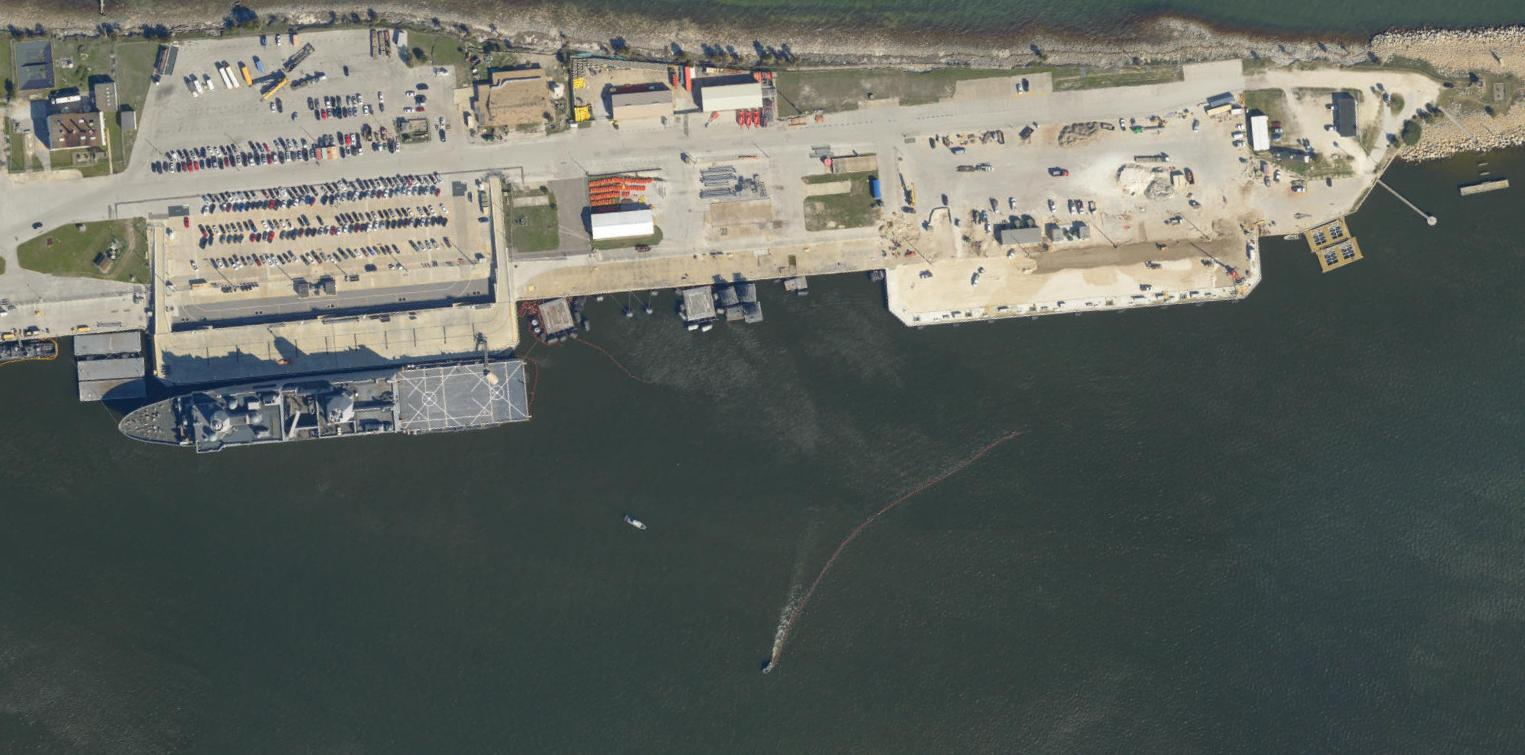amphiby: (115, 356, 536, 456)
